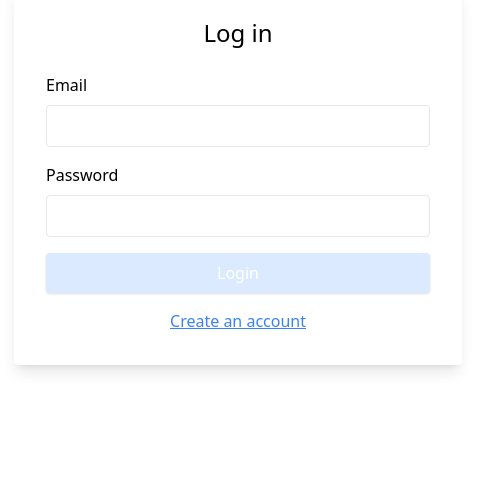
Test: LoginSignup Component › toggles to the sign-up form
# Click on the 'Create an account' button
Click the button "Create an account" at [238, 321], box left=170, top=309, right=306, bottom=333
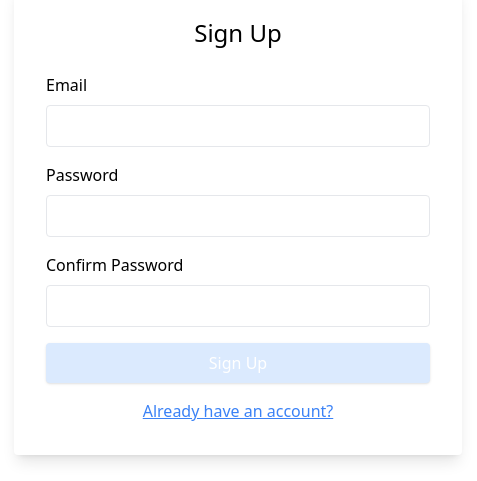
Expected: the number of headings "Sign Up" is 2, left=194, top=16, right=282, bottom=49; left=46, top=343, right=430, bottom=383
Expected: the password field labelled "Confirm Password" is shown, left=46, top=285, right=430, bottom=327
